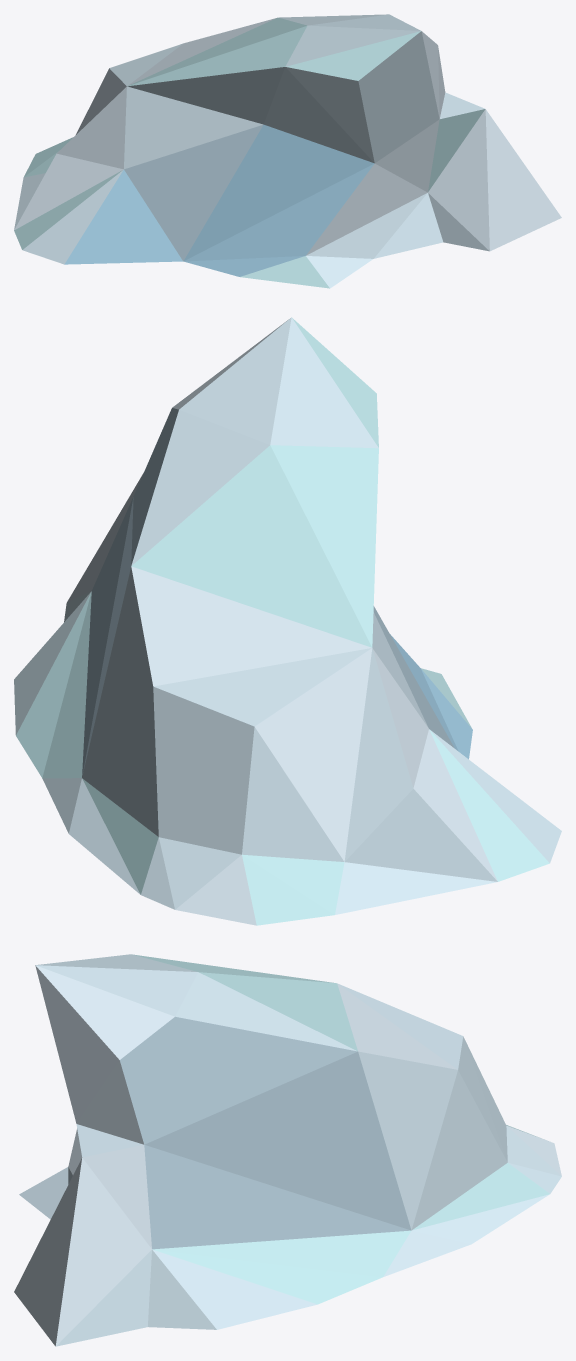
File: Iceberg 4.fbx
3 renders of one model, top to bottom at view 1: azimuth 30°, elevation 25°; view 2: azimuth 150°, elevation 25°; view 3: azimuth 270°, elevation 25°, orthographic. The views are drawn at different scales.
Visible parts, largest first — view 1: Iceberg 4; view 2: Iceberg 4; view 3: Iceberg 4.
Part boxes in pixels (left/top/right/bottom): Iceberg 4: left=14, top=14, right=561, bottom=288; Iceberg 4: left=14, top=317, right=561, bottom=925; Iceberg 4: left=14, top=954, right=561, bottom=1346.
Size of the model in its own units: 9974 by 4983 by 8537.
